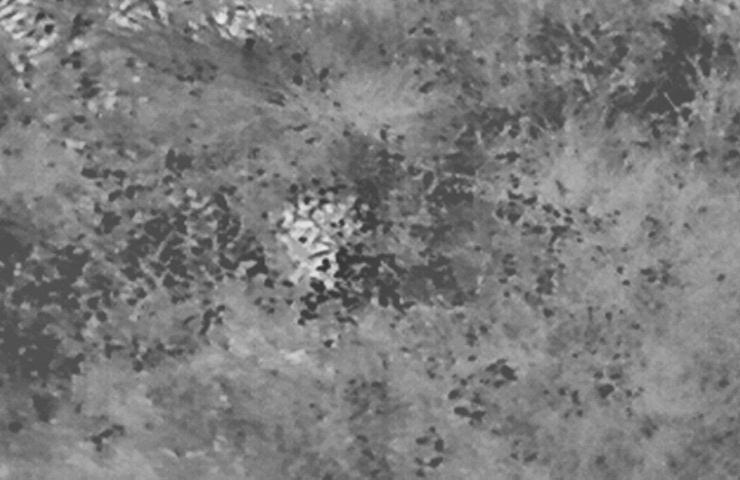landmines: (280, 196, 366, 281)
